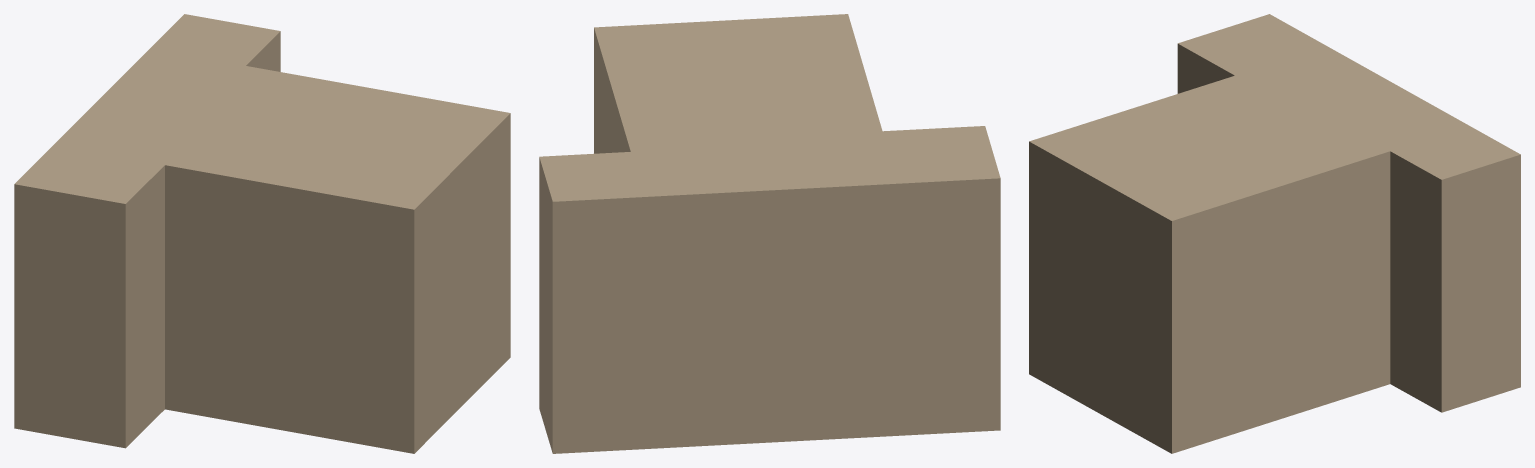
The model's file is bld_106339087.dae.
The picture shows the model from 3 angles, left to right: view 1: azimuth 30°, elevation 25°; view 2: azimuth 150°, elevation 25°; view 3: azimuth 270°, elevation 25°; orthographic projection. The views are drawn at different scales.
Visible parts, largest first — view 1: bld_106339087; view 2: bld_106339087; view 3: bld_106339087.
Part boxes in pixels (x1,y1,x2,y2): bld_106339087: (14, 14, 510, 453); bld_106339087: (539, 14, 1000, 453); bld_106339087: (1029, 14, 1520, 453).
Size of the model in its own units: 15.26 by 15.32 by 8.
